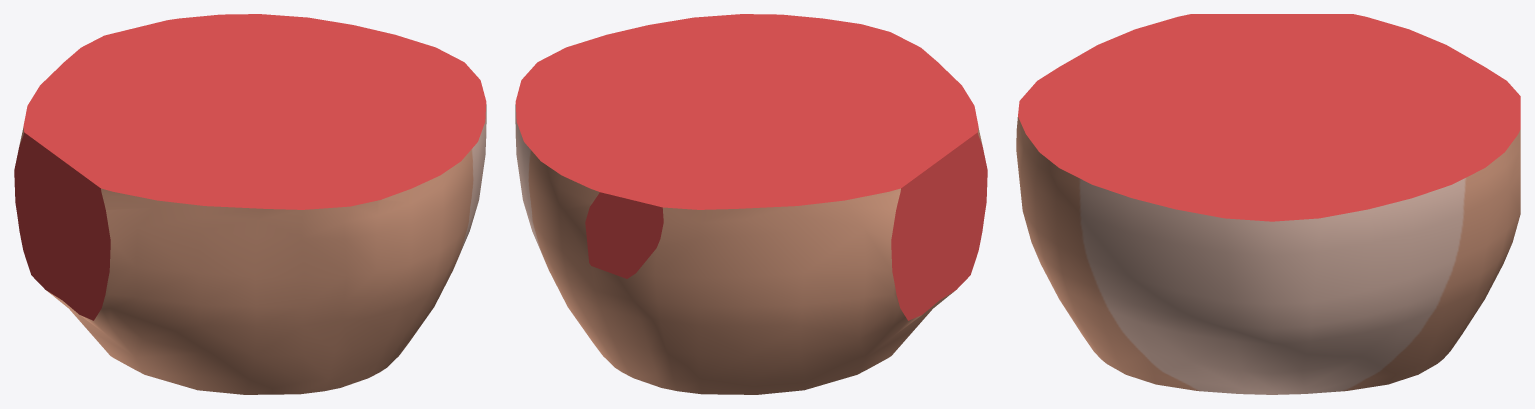
File: body.obj
3 views of the same model, side by side, from view 1: azimuth 30°, elevation 25°; view 2: azimuth 150°, elevation 25°; view 3: azimuth 270°, elevation 25° (orthographic). The views are drawn at different scales.
Parts seen in each view (by area): view 1: Fox_Final_Low.002_Fox_Final_Low.003; view 2: Fox_Final_Low.002_Fox_Final_Low.003; view 3: Fox_Final_Low.002_Fox_Final_Low.003.
Part boxes in pixels (x1,y1,x2,y2): Fox_Final_Low.002_Fox_Final_Low.003: (14, 14, 486, 394); Fox_Final_Low.002_Fox_Final_Low.003: (515, 14, 987, 394); Fox_Final_Low.002_Fox_Final_Low.003: (1016, 14, 1520, 394).
Size of the model in its own units: 3.2 by 1.6 by 3.28.
